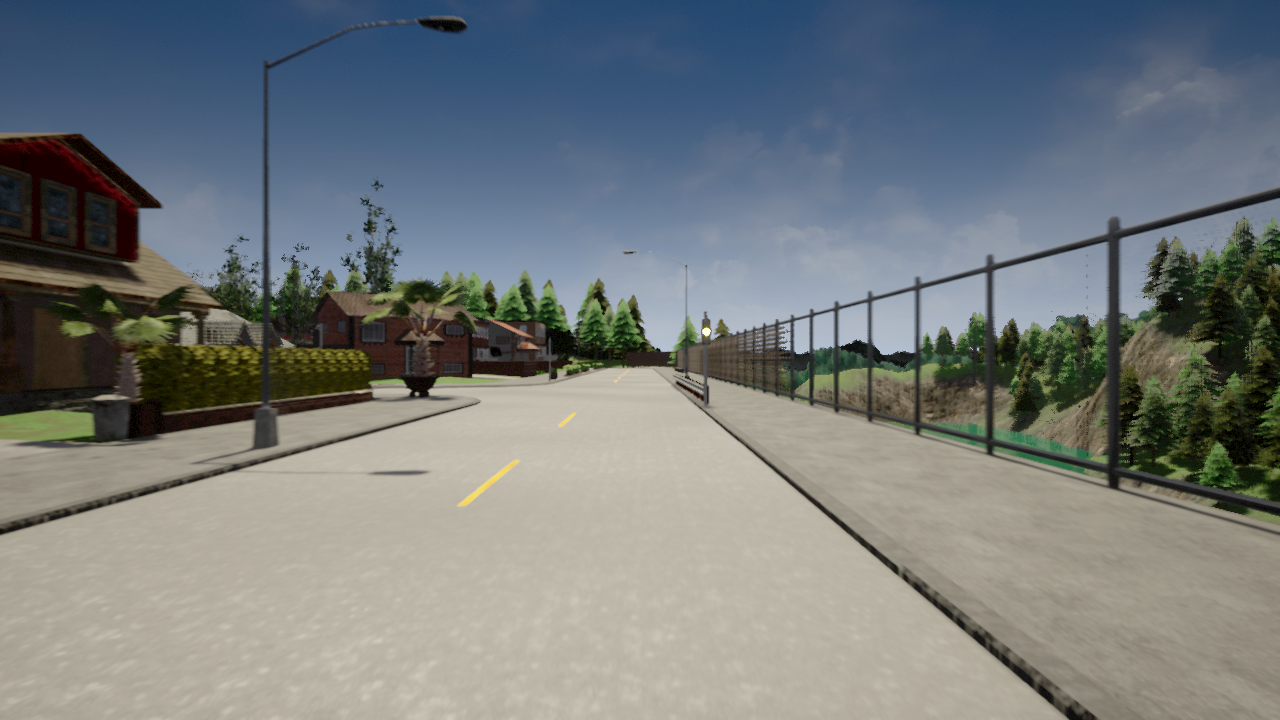yellow: (700, 316, 710, 345)
